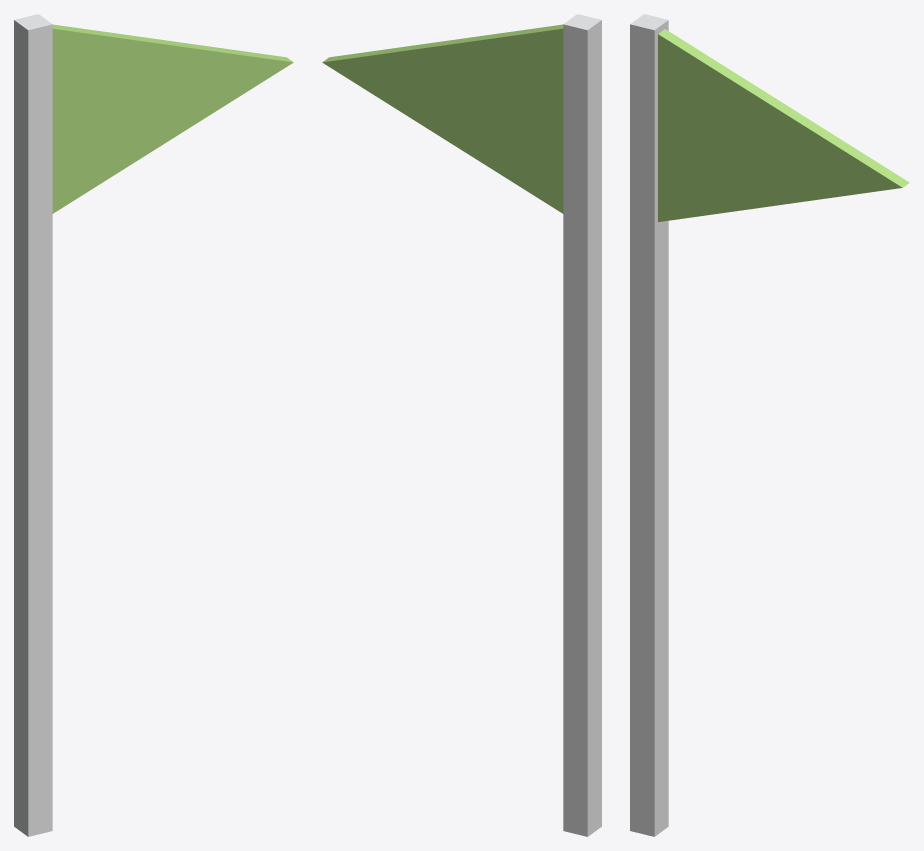
Rendered from Flag_green_01.glb.
3 renders of one model, left to right at view 1: azimuth 30°, elevation 25°; view 2: azimuth 150°, elevation 25°; view 3: azimuth 330°, elevation 25°, orthographic.
Visible parts, largest first — view 1: Mesh1 Flag_green Model; view 2: Mesh1 Flag_green Model; view 3: Mesh1 Flag_green Model.
Part boxes in pixels (bbox=[...]): Mesh1 Flag_green Model: bbox=[14, 14, 293, 836]; Mesh1 Flag_green Model: bbox=[322, 14, 601, 836]; Mesh1 Flag_green Model: bbox=[630, 14, 909, 836].
Size of the model in its own units: 2.2 by 6.3 by 0.2.
